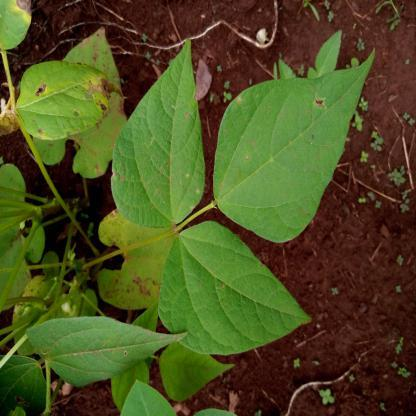Beans_Angular_LeafSpot: (215, 49, 375, 238), (113, 38, 203, 214), (12, 27, 113, 172), (103, 212, 179, 310)
